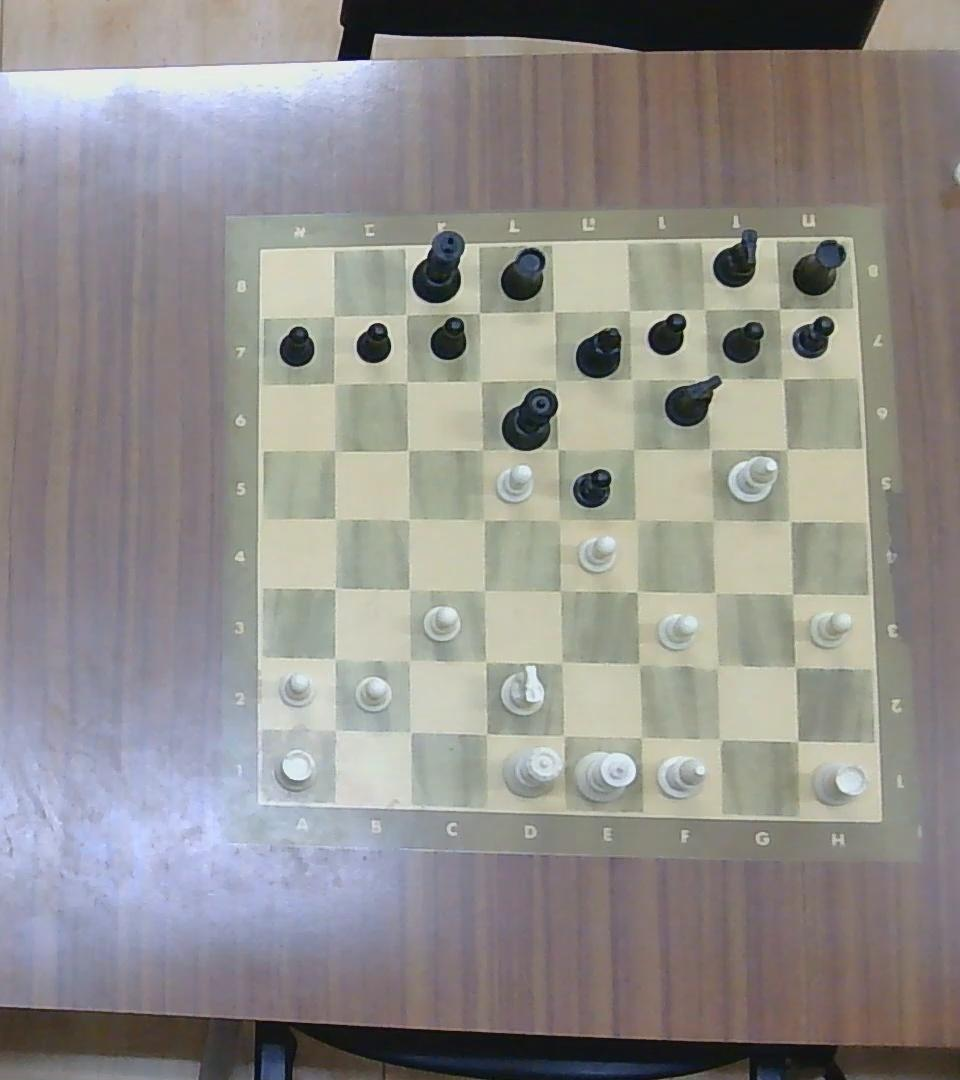xcorner: (541, 435, 574, 461), (470, 717, 498, 745), (549, 720, 578, 747), (546, 579, 575, 604), (622, 367, 650, 392), (393, 579, 424, 600), (543, 366, 569, 390), (781, 580, 805, 606), (702, 581, 727, 605), (623, 508, 649, 531), (631, 652, 654, 678), (705, 728, 731, 751), (323, 646, 347, 670), (322, 438, 347, 461), (700, 509, 726, 531), (323, 715, 343, 743), (322, 574, 346, 597), (628, 580, 652, 603), (399, 648, 421, 673), (783, 732, 810, 752), (464, 302, 492, 321), (706, 656, 730, 678), (542, 508, 568, 528), (776, 511, 802, 531), (771, 367, 795, 388), (785, 653, 806, 676), (395, 719, 418, 740), (468, 369, 489, 391), (469, 440, 491, 461), (695, 299, 718, 319), (543, 302, 567, 321), (393, 439, 417, 457), (322, 306, 339, 331), (700, 437, 719, 459), (630, 728, 652, 747), (397, 304, 417, 324), (471, 580, 493, 598), (623, 439, 642, 459), (475, 650, 494, 670), (776, 440, 797, 457), (553, 651, 570, 672), (396, 508, 415, 526), (323, 372, 340, 392), (396, 370, 411, 392), (698, 369, 716, 387), (622, 301, 639, 320), (475, 508, 492, 527), (768, 299, 787, 315), (327, 512, 344, 526)
